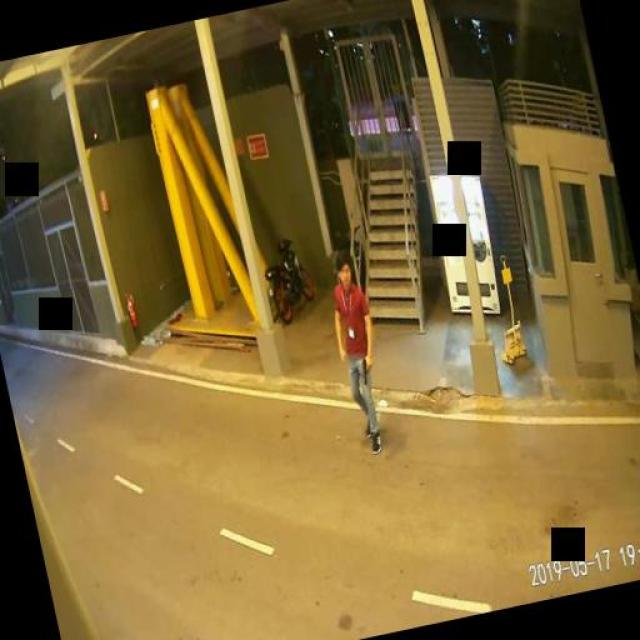gun: (356, 355, 374, 381)
